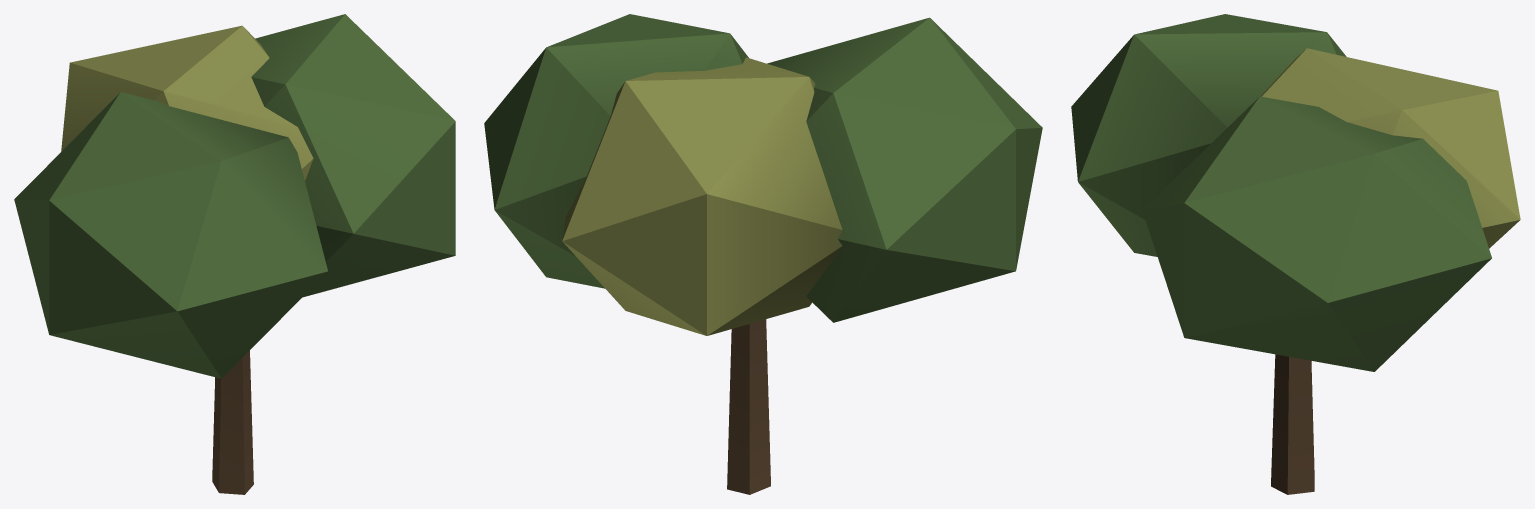
The model's file is tree-olive-2.glb.
3 renders of one model, left to right at view 1: azimuth 30°, elevation 25°; view 2: azimuth 150°, elevation 25°; view 3: azimuth 270°, elevation 25°, orthographic. The views are drawn at different scales.
Parts seen in each view (by area): view 1: tree-olive-2; view 2: tree-olive-2; view 3: tree-olive-2.
Boxes of the visible parts, x1,y1,x2,y2 form: tree-olive-2: (14,14,455,494); tree-olive-2: (484,14,1042,494); tree-olive-2: (1071,14,1520,494).
Size of the model in its own units: 7 by 6 by 6.
